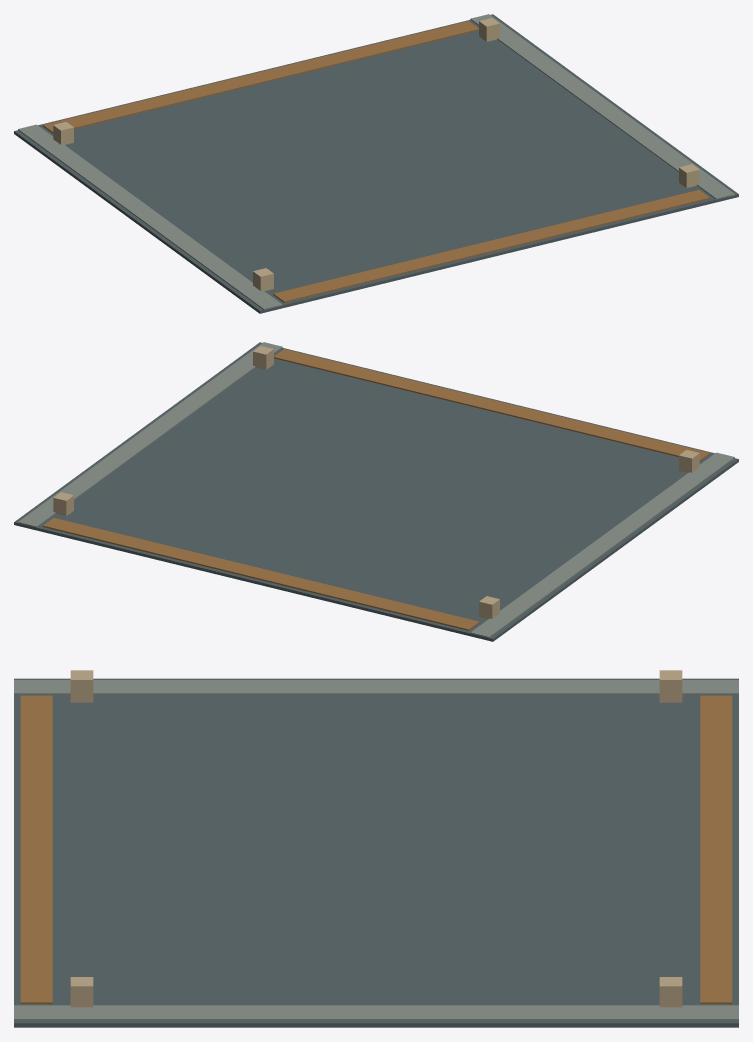
Rendered from PirateCove_HubPlaza_Simple.glb.
3 renders of one model, top to bottom at view 1: azimuth 30°, elevation 25°; view 2: azimuth 150°, elevation 25°; view 3: azimuth 270°, elevation 25°, orthographic. The views are drawn at different scales.
Visible parts, largest first — view 1: PirateCove_HubPlaza_Simple; view 2: PirateCove_HubPlaza_Simple; view 3: PirateCove_HubPlaza_Simple.
Boxes of the visible parts, x1=… form: PirateCove_HubPlaza_Simple: x1=14, y1=14, x2=738, y2=313; PirateCove_HubPlaza_Simple: x1=14, y1=342, x2=738, y2=641; PirateCove_HubPlaza_Simple: x1=14, y1=670, x2=738, y2=1027.
Bounding box in the file's own units: 36 × 1.3 × 32.
